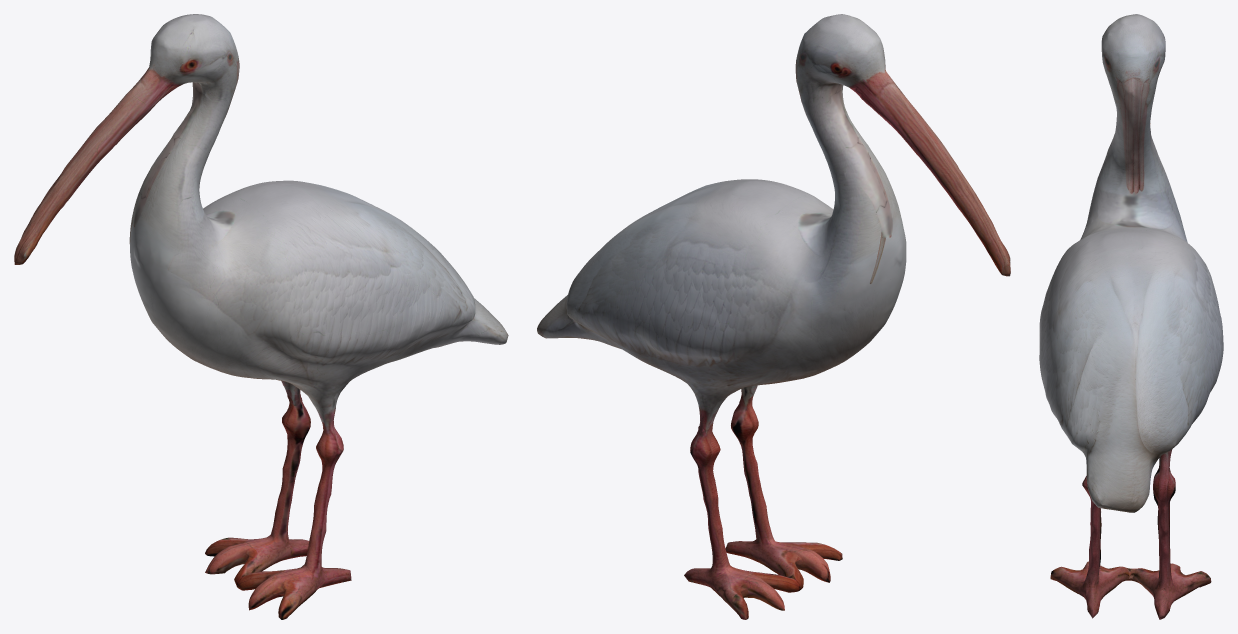
The model's file is A_cartoon_skinny_white_ibis_with_a_long_and_tall_neck_0506163857_refine.fbx.
The picture shows the model from 3 angles, left to right: view 1: azimuth 30°, elevation 25°; view 2: azimuth 150°, elevation 25°; view 3: azimuth 270°, elevation 25°; orthographic projection. The views are drawn at different scales.
Visible parts, largest first — view 1: Mesh_0; view 2: Mesh_0; view 3: Mesh_0.
Boxes of the visible parts, box(x1,y1,x2,y2) form: Mesh_0: box(14, 14, 508, 619); Mesh_0: box(537, 14, 1010, 619); Mesh_0: box(1039, 14, 1223, 619).
Bounding box in the file's own units: 102 × 120 × 36.98.
Materials: 1 (1 with a texture image).
